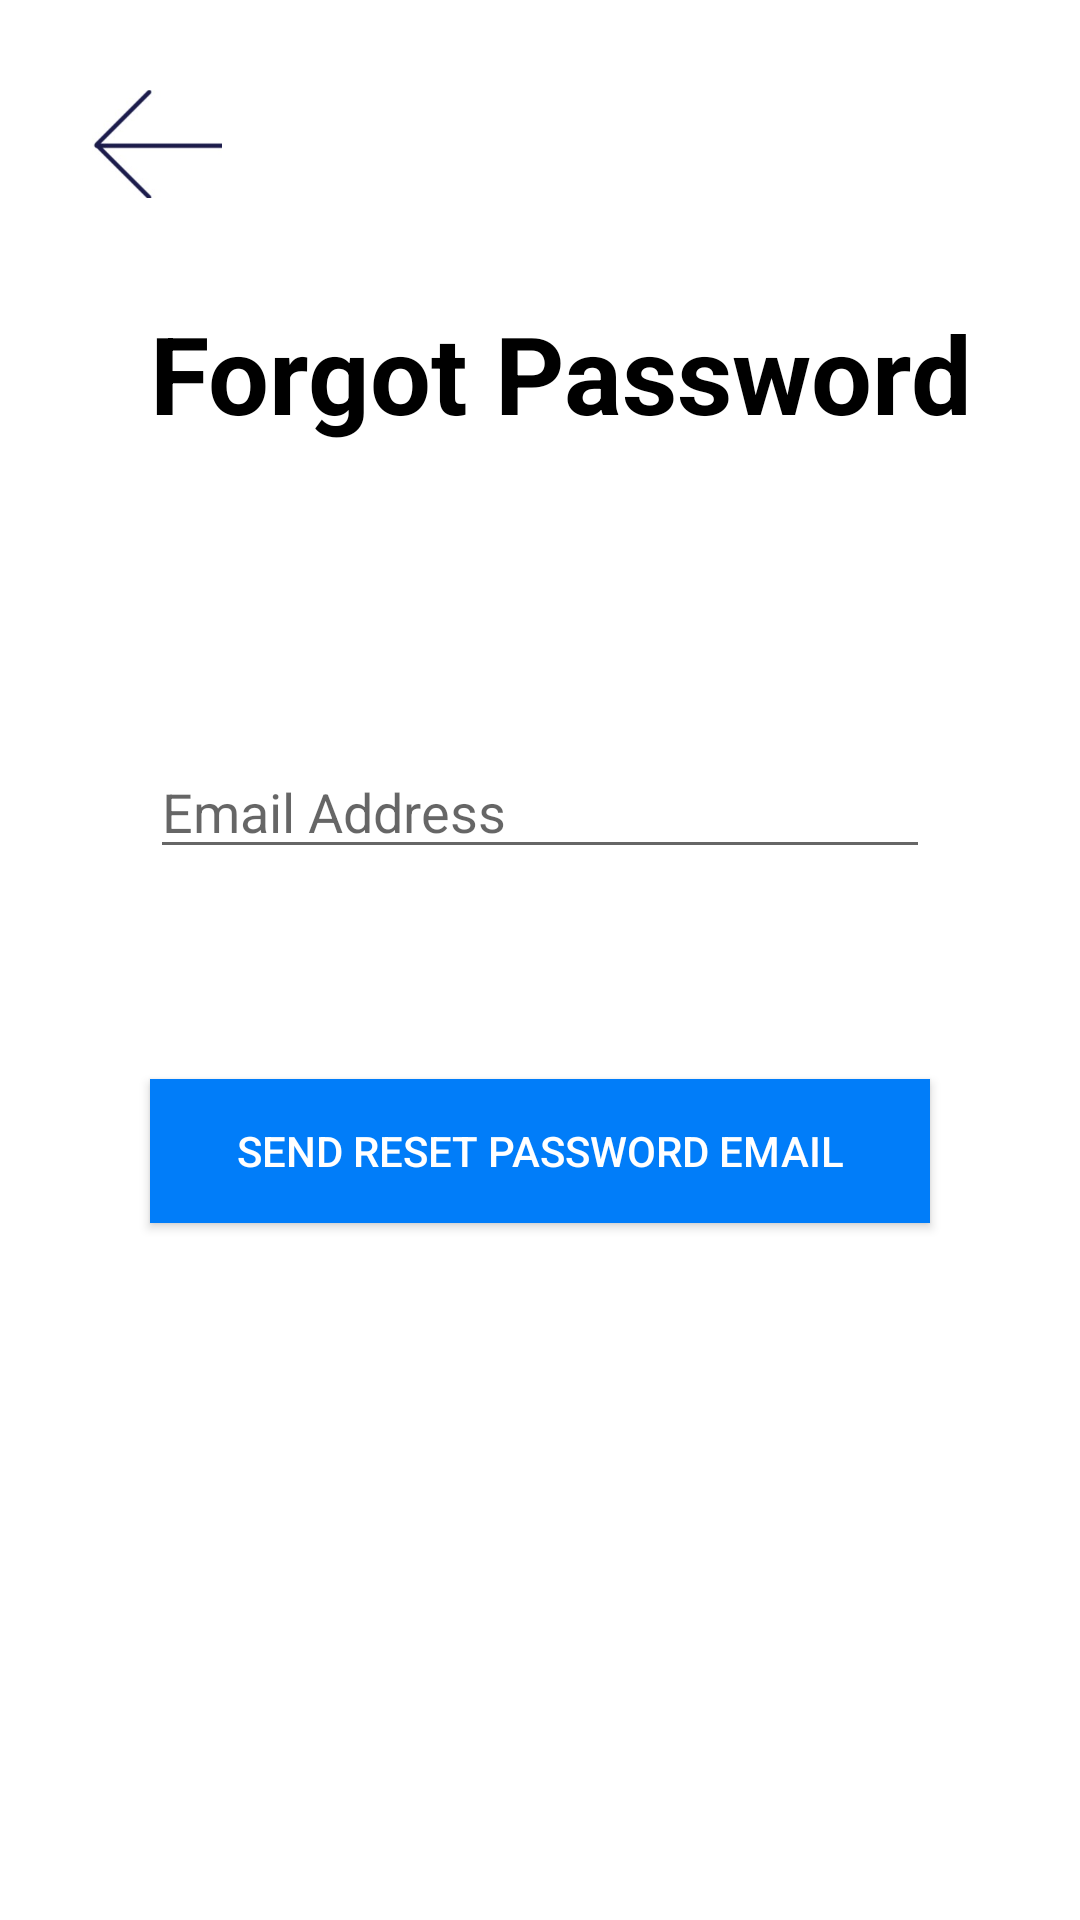

Screen size 1080px x 1920px. Icon name, then its box in pixels as [x1, y1, x2, y2]:
back: [94, 90, 222, 198]
